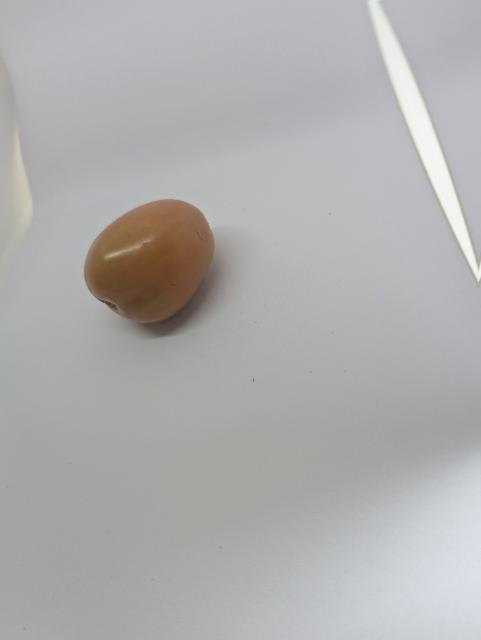turning: (75, 191, 224, 329)
